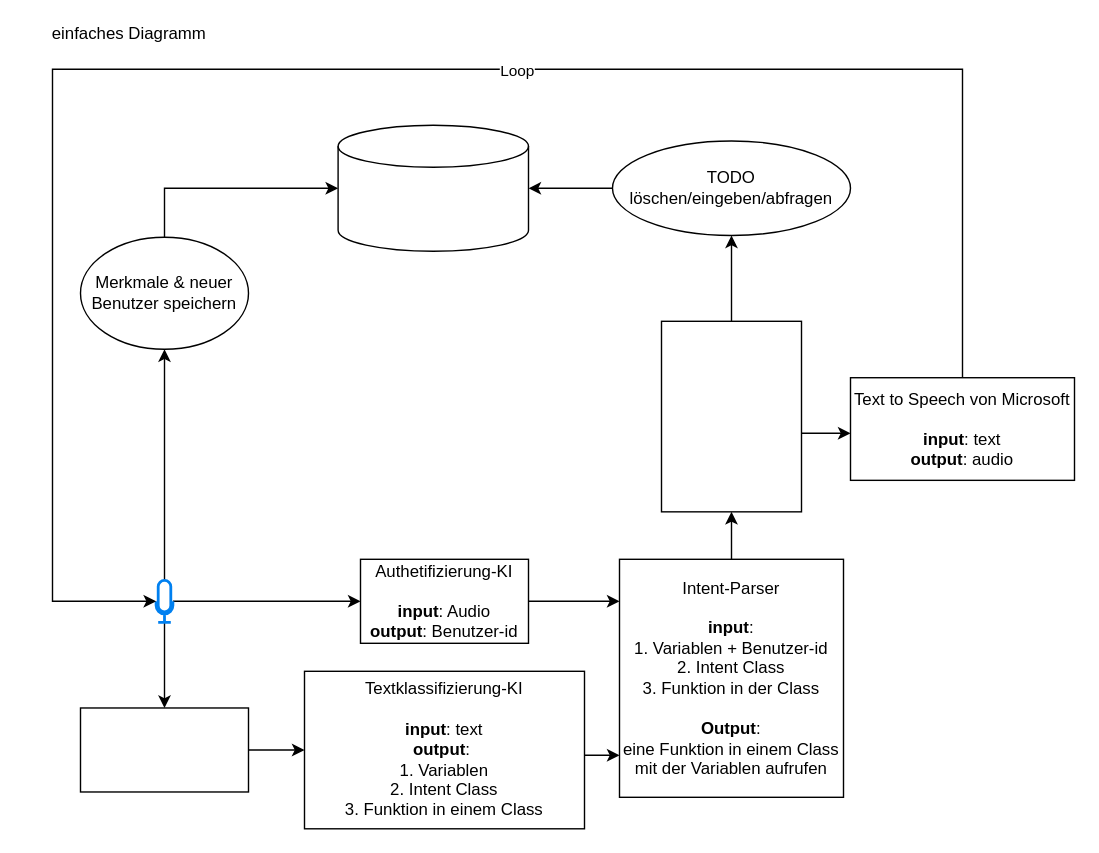
This 1099x853 diagram has some shape labels left out. Each missing label, with the centre of its shape:
Benutzerdatenbank: the point at 432,187
Intents Class input : Variablen +benutzer-id output : Textsatz: the point at 731,416
Whisper-KI input : audio output : text: the point at 163,749
